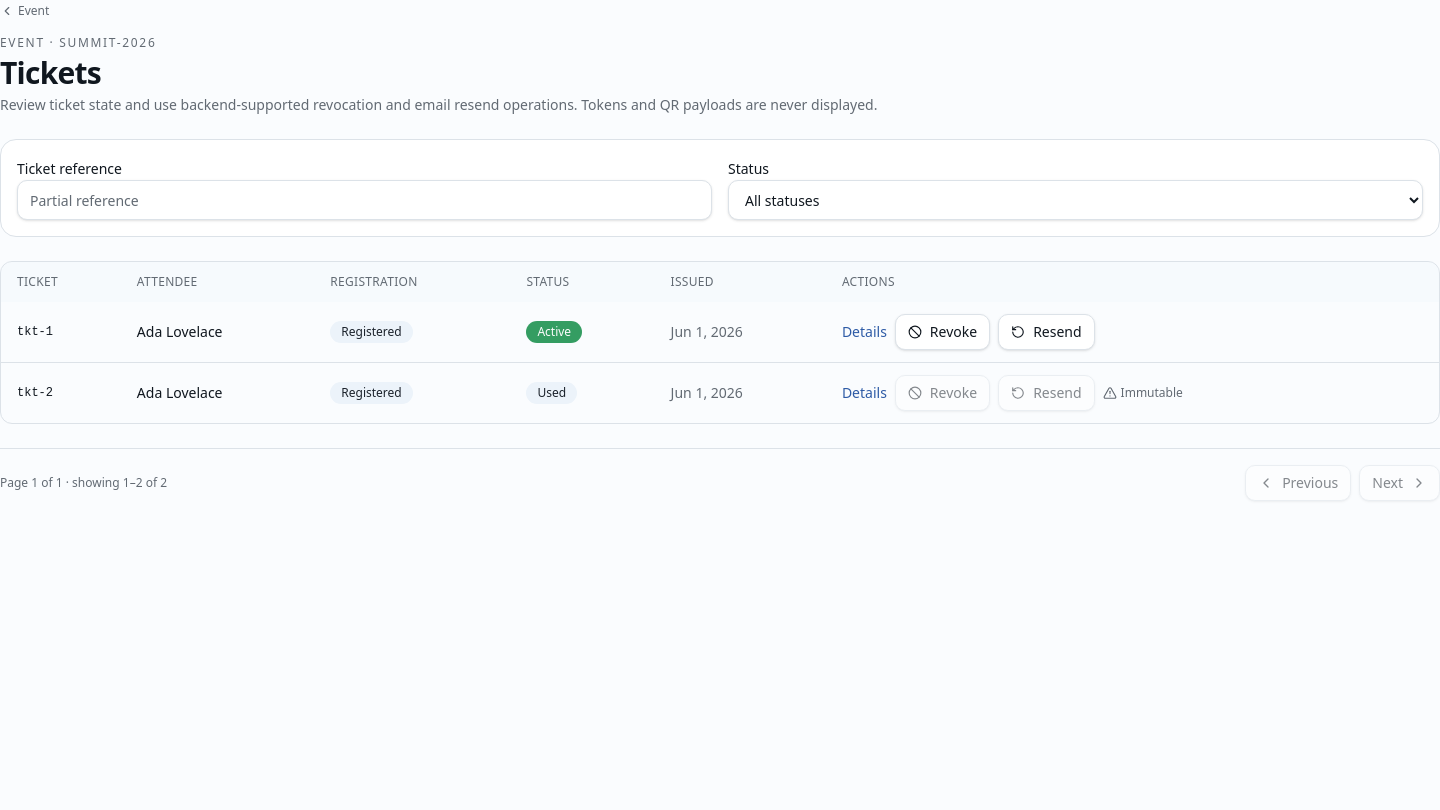
it: ticket management › shows a 409 conflict for an invalid resend
The width and height of the screenshot is (1440, 810).
Expected: the text "tkt-1" is shown, [1,302,121,362]
Click the button "Resend" in the row of "tkt-1": [1046, 332] box [998,314,1095,350]
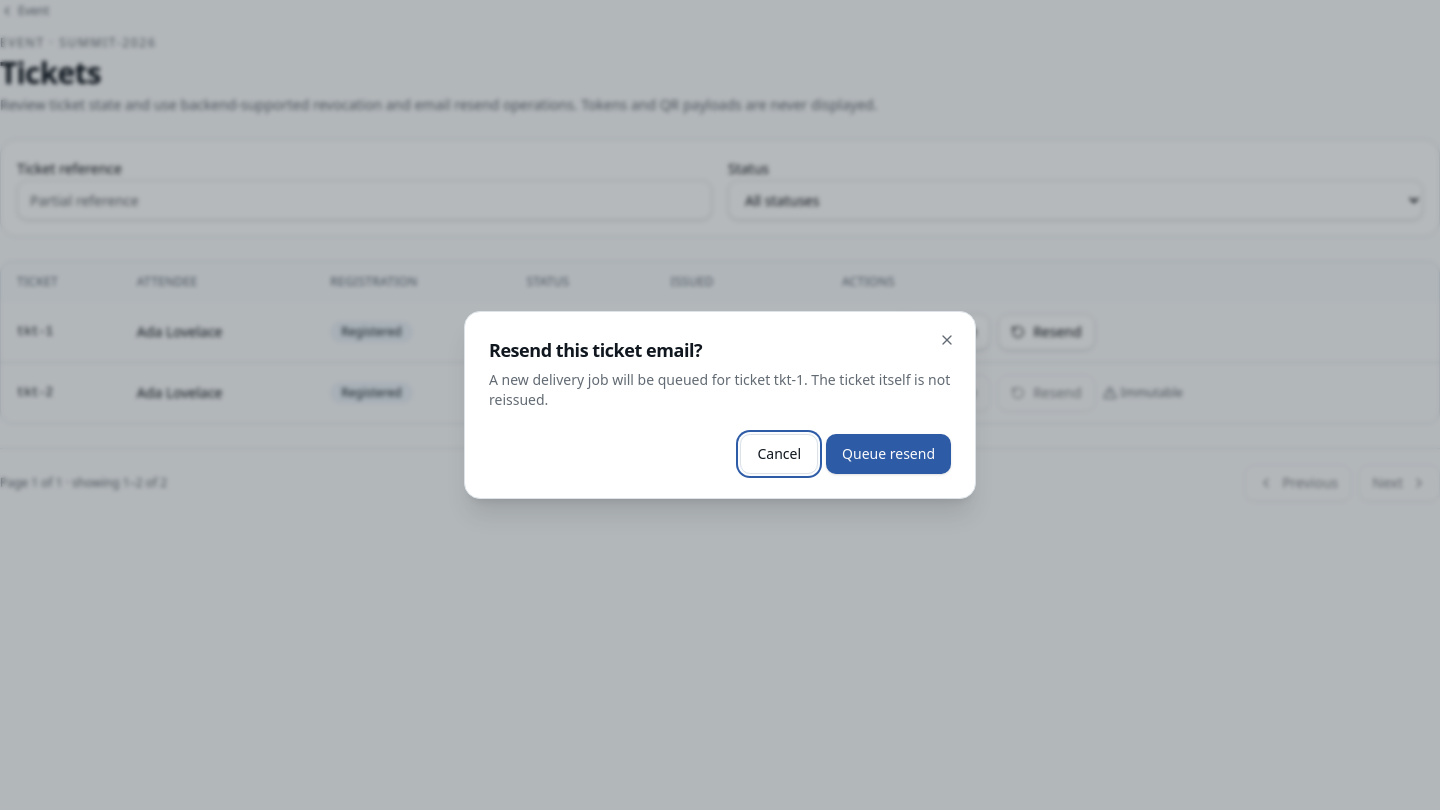
Click the button "Queue resend": [889, 454] box [826,434,951,474]
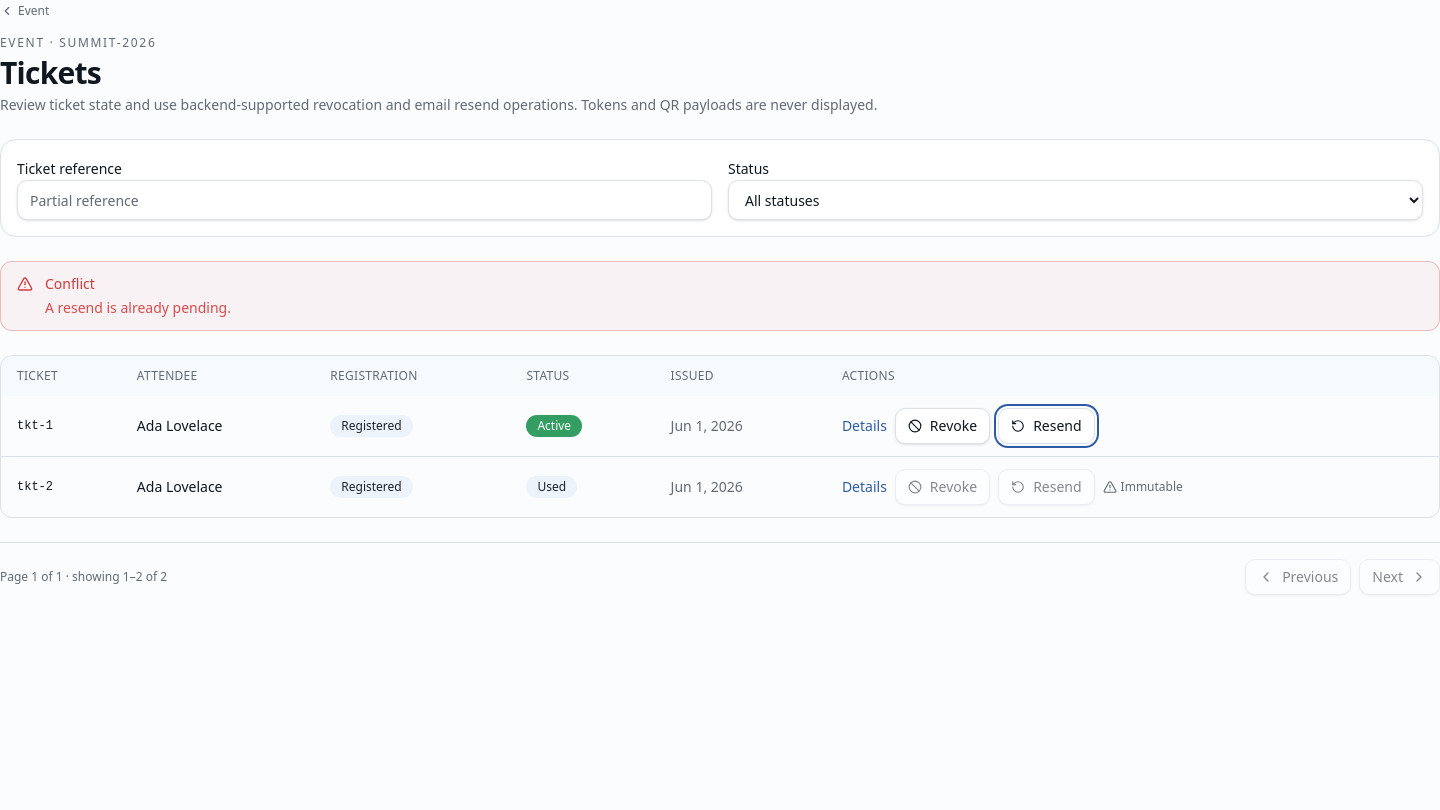
Expected: the text "A resend is already pending." is shown, [45,298,231,317]
